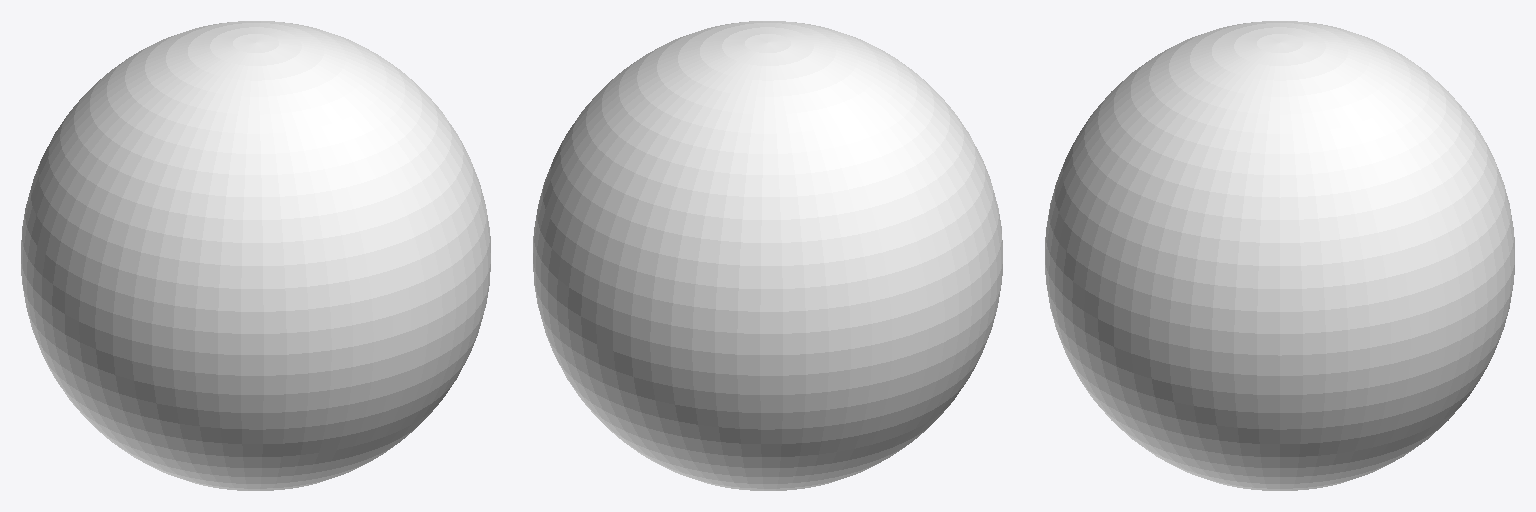
File: safedot.obj
3 renders of one model, left to right at view 1: azimuth 30°, elevation 25°; view 2: azimuth 150°, elevation 25°; view 3: azimuth 270°, elevation 25°, orthographic.
Parts seen in each view (by area): view 1: ???; view 2: ???; view 3: ???.
Part boxes in pixels (x1,y1,x2,y2): ???: (21,21,490,490); ???: (533,21,1002,490); ???: (1045,21,1514,490).
Size of the model in its own units: 16 by 16 by 16.